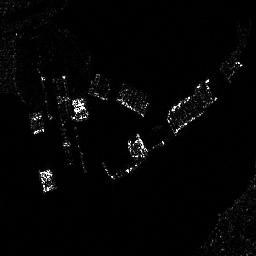ship: (40, 168, 55, 193)
